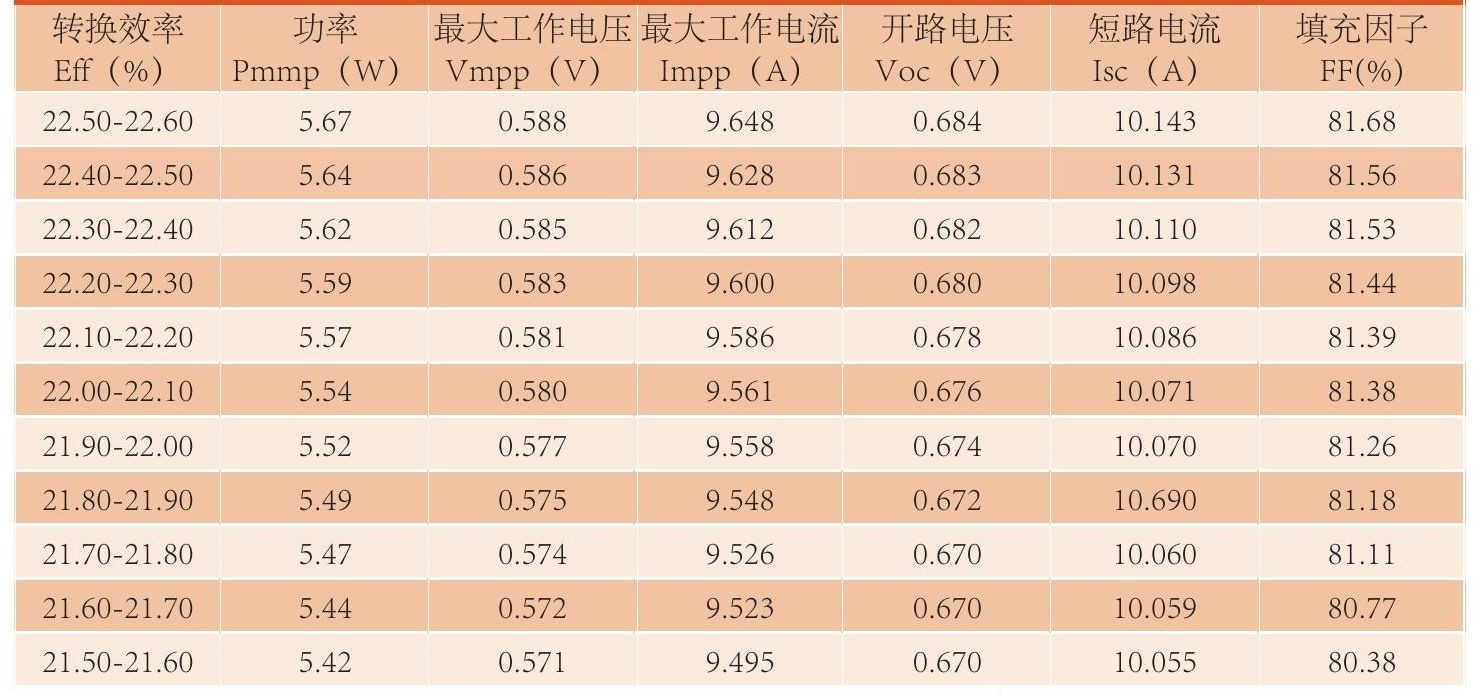table: (6, 1, 1472, 691)
table column: (430, 42, 630, 688), (845, 44, 1043, 688), (1057, 43, 1252, 687), (642, 41, 833, 687), (1264, 43, 1455, 686), (230, 43, 417, 685)
table column header: (18, 47, 1463, 88)
table row: (30, 40, 210, 688), (17, 204, 1467, 254), (10, 635, 1471, 683), (15, 313, 1469, 361), (18, 96, 1464, 143), (12, 530, 1468, 576), (13, 422, 1469, 467), (17, 152, 1464, 195), (11, 585, 1471, 627), (16, 260, 1468, 302), (12, 368, 1470, 409), (14, 476, 1469, 517), (17, 47, 1465, 87)
